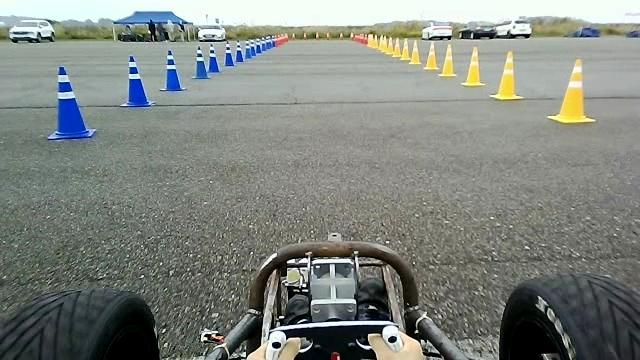blue cone: (47, 65, 96, 139), (119, 55, 155, 107), (158, 49, 186, 91), (191, 45, 210, 79), (207, 43, 222, 73)
yellow cone: (547, 58, 596, 123), (489, 50, 523, 100), (460, 46, 485, 86), (437, 43, 457, 77), (423, 41, 439, 70)
